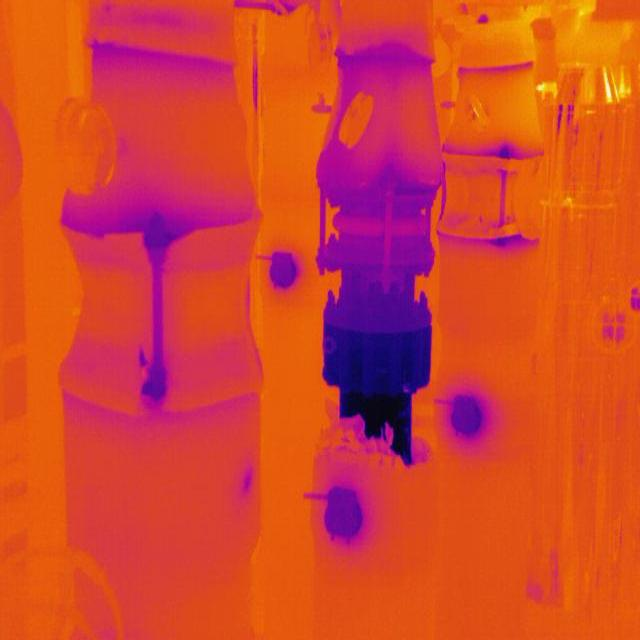leakage: (234, 467, 262, 498)
